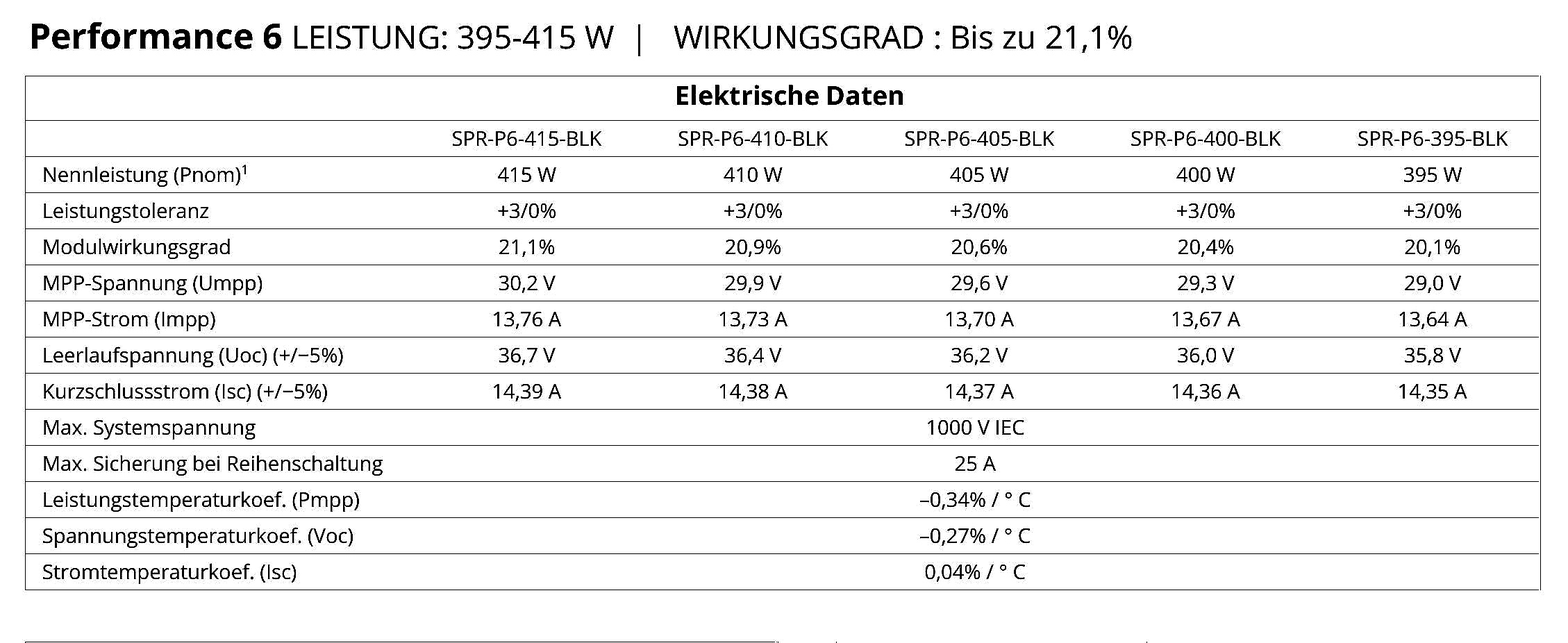table: (20, 69, 1553, 596)
table column: (25, 73, 422, 587), (860, 75, 1109, 588), (1110, 74, 1344, 588), (639, 75, 858, 590), (423, 76, 640, 587), (1344, 75, 1540, 588)
table column header: (24, 118, 1544, 159)
table name: (26, 75, 1542, 120)
table row: (24, 74, 1544, 119), (24, 553, 1544, 592), (25, 262, 1544, 301), (22, 156, 1544, 194), (22, 301, 1544, 339), (21, 120, 1544, 157), (23, 408, 1544, 445), (24, 445, 1542, 482), (23, 519, 1542, 555), (25, 339, 1542, 375), (23, 228, 1544, 263), (23, 483, 1540, 518), (23, 376, 1544, 410), (21, 193, 1546, 226)
table row header: (23, 75, 422, 587)
table spanning cell: (24, 76, 1544, 120), (421, 551, 1540, 592), (421, 445, 1542, 484), (421, 408, 1542, 446), (422, 483, 1540, 519), (422, 518, 1540, 553)
